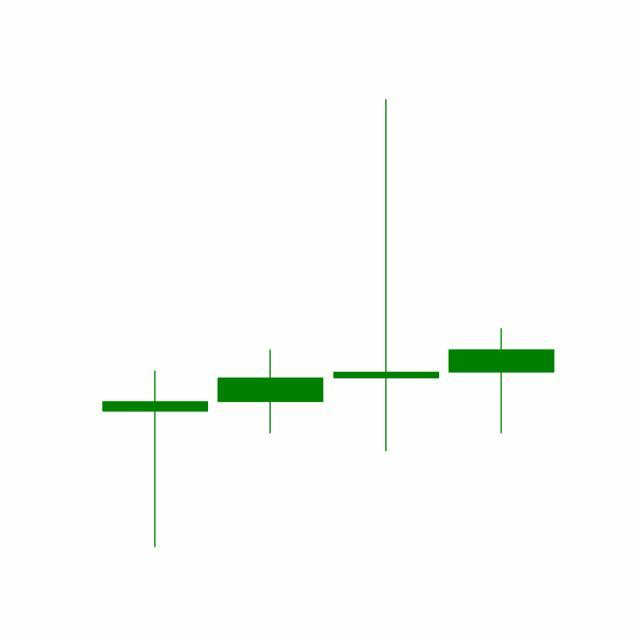Spinning Top: (329, 96, 445, 457)
